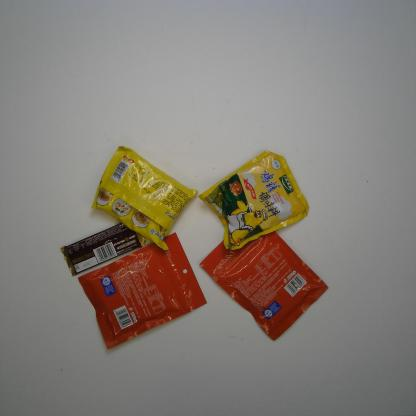Chocolate: (55, 219, 155, 278)
Dried Fruit: (199, 219, 329, 343), (76, 233, 206, 351)
Instant Noodles: (89, 144, 199, 254)
Seasoner: (196, 149, 310, 255)
